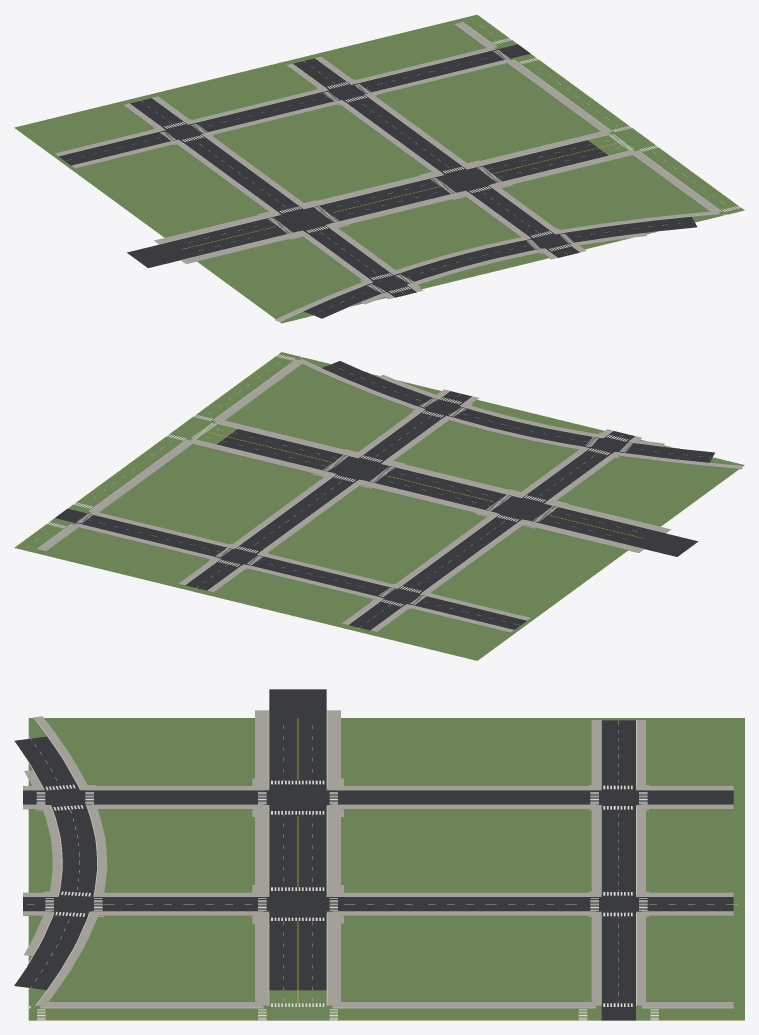
Rendered from Ground_3_1.fbx.
The picture shows the model from 3 angles, top to bottom: view 1: azimuth 30°, elevation 25°; view 2: azimuth 150°, elevation 25°; view 3: azimuth 270°, elevation 25°; orthographic projection. The views are drawn at different scales.
Visible parts, largest first — view 1: Ground_3_1; view 2: Ground_3_1; view 3: Ground_3_1.
Boxes of the visible parts, bbox=[...] form: Ground_3_1: bbox=[14, 14, 744, 323]; Ground_3_1: bbox=[14, 352, 744, 660]; Ground_3_1: bbox=[14, 689, 744, 1020].
Size of the model in its own units: 274 by 0.14 by 255.
